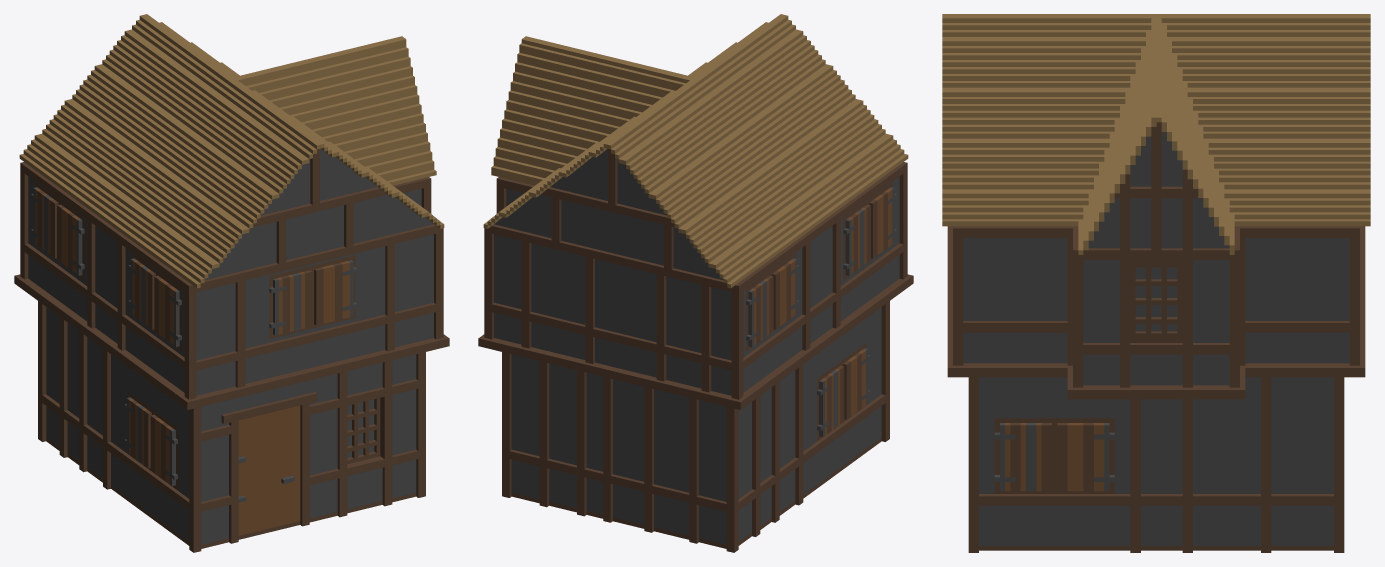
Rendered from Casa 10.obj.
The picture shows the model from 3 angles, left to right: view 1: azimuth 30°, elevation 25°; view 2: azimuth 150°, elevation 25°; view 3: azimuth 270°, elevation 25°; orthographic projection. The views are drawn at different scales.
Size of the model in its own units: 8.1 by 9.9 by 8.2.
Materials: 1 (1 with a texture image).
